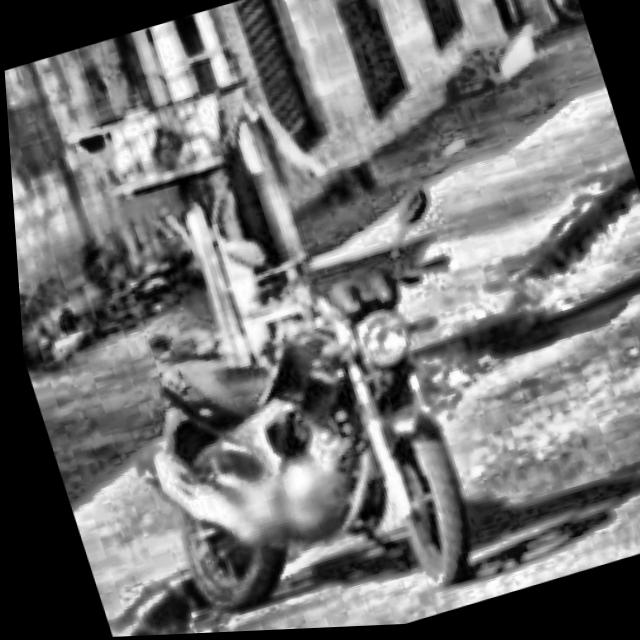motorcycle: (52, 177, 564, 639)
